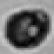correct: (1, 4, 52, 47)
